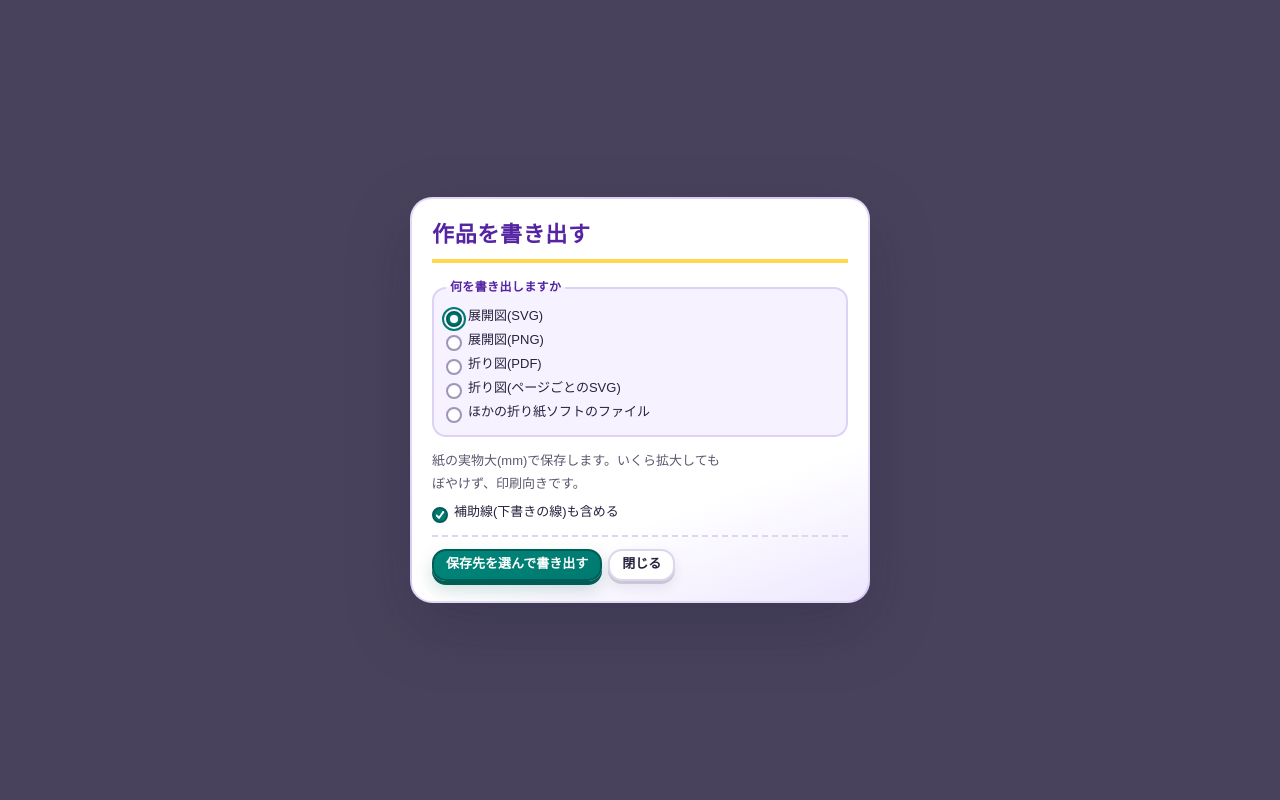
Test: 書き出しダイアログ › 接続完了後は既存画面の5番目で安全な説明と対応外8項目を選べる
This screenshot has width=1280, height=800.
Expected: the dialog "作品を書き出す" is shown, [410,197,870,603]
Click the radio button labelled "ほかの折り紙ソフトのファイル".
click(454, 414)  # box [446,406,462,422]
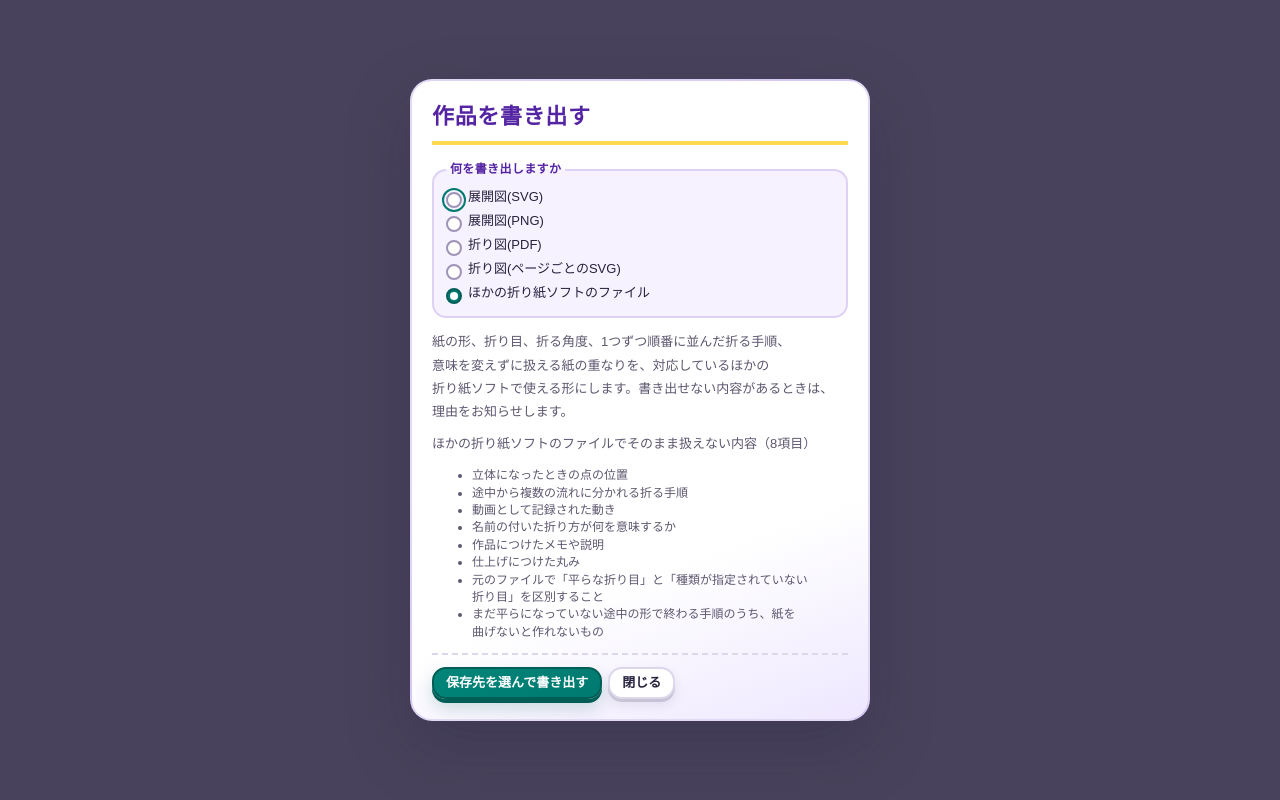
Expected: the radio button labelled "ほかの折り紙ソフトのファイル" is checked, [446,288,462,304]
Expected: the text "紙の形、折り目、折る角度、1つずつ順番に並んだ折る手順、意味を変えずに扱える紙の重なりを、対応しているほかの折り紙ソフトで使える形にします。書き出せない内容があるときは、理由をお知らせします。" is shown, [432,334,833,419]
